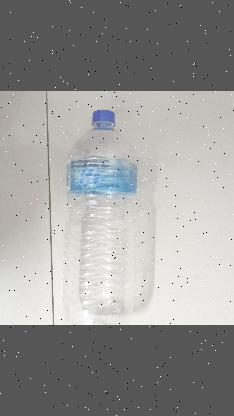Plastic Bottle: (62, 110, 141, 324)
